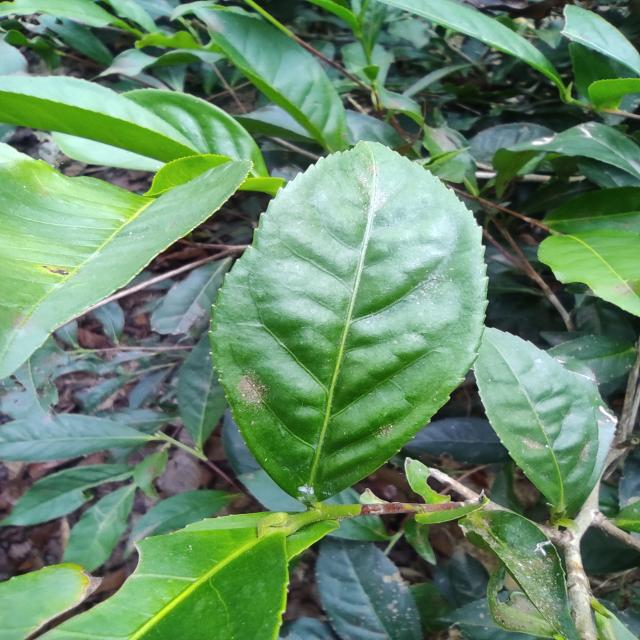Category D(7+ days, Not for Tea): (203, 123, 497, 510)
